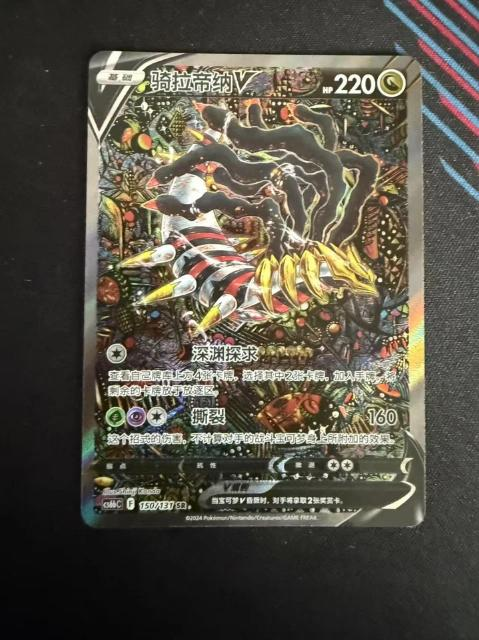Card: (75, 44, 431, 534)
Name: (144, 65, 268, 95)
